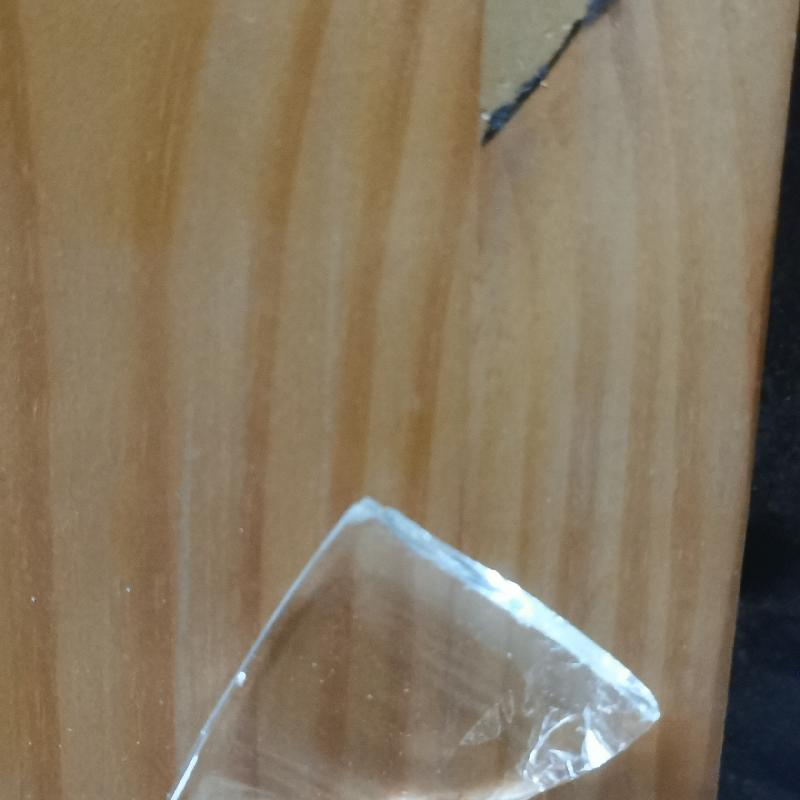glass: (159, 498, 663, 800)
